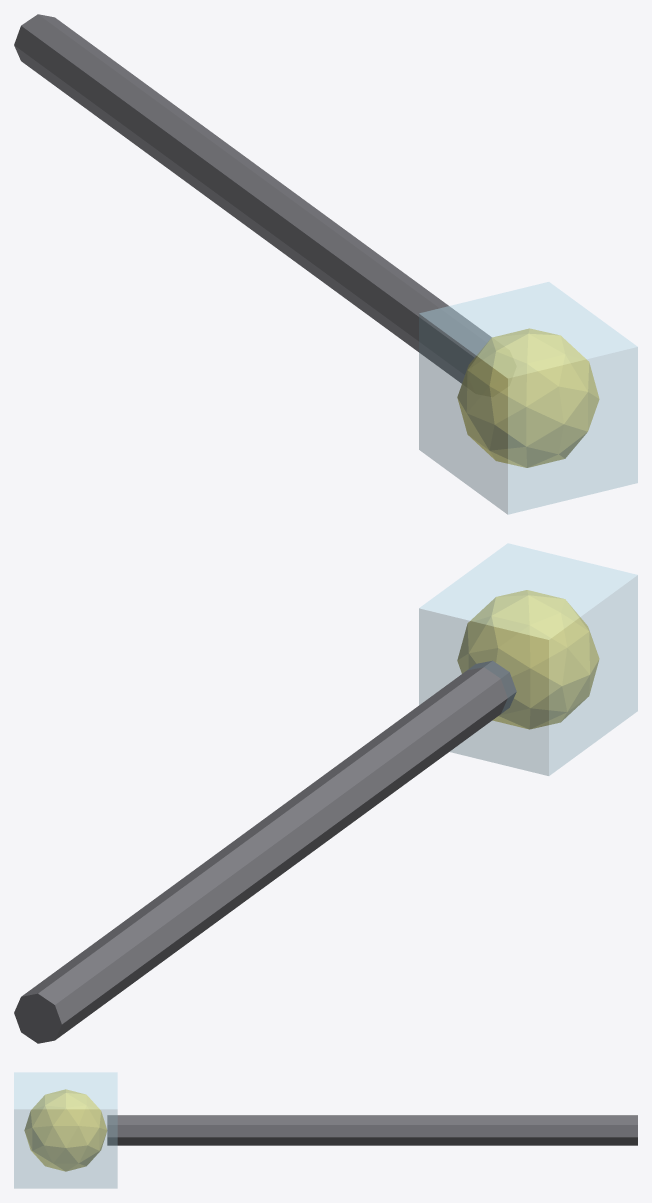
Rendered from city_street_lamp.glb.
3 renders of one model, top to bottom at view 1: azimuth 30°, elevation 25°; view 2: azimuth 150°, elevation 25°; view 3: azimuth 270°, elevation 25°, orthographic. The views are drawn at different scales.
Visible parts, largest first — view 1: lamp_box, pole, light; view 2: lamp_box, pole, light; view 3: pole, lamp_box, light.
Boxes of the visible parts, x1,y1,x2,y2 form: lamp_box: [419, 282, 637, 514]; pole: [14, 14, 491, 383]; light: [457, 328, 599, 467]; lamp_box: [419, 543, 637, 775]; pole: [14, 660, 516, 1043]; light: [457, 590, 599, 729]; pole: [107, 1115, 637, 1145]; lamp_box: [14, 1072, 117, 1188]; light: [24, 1089, 107, 1171].
Bounding box in the file's own units: 0.38 × 0.38 × 2.7.
